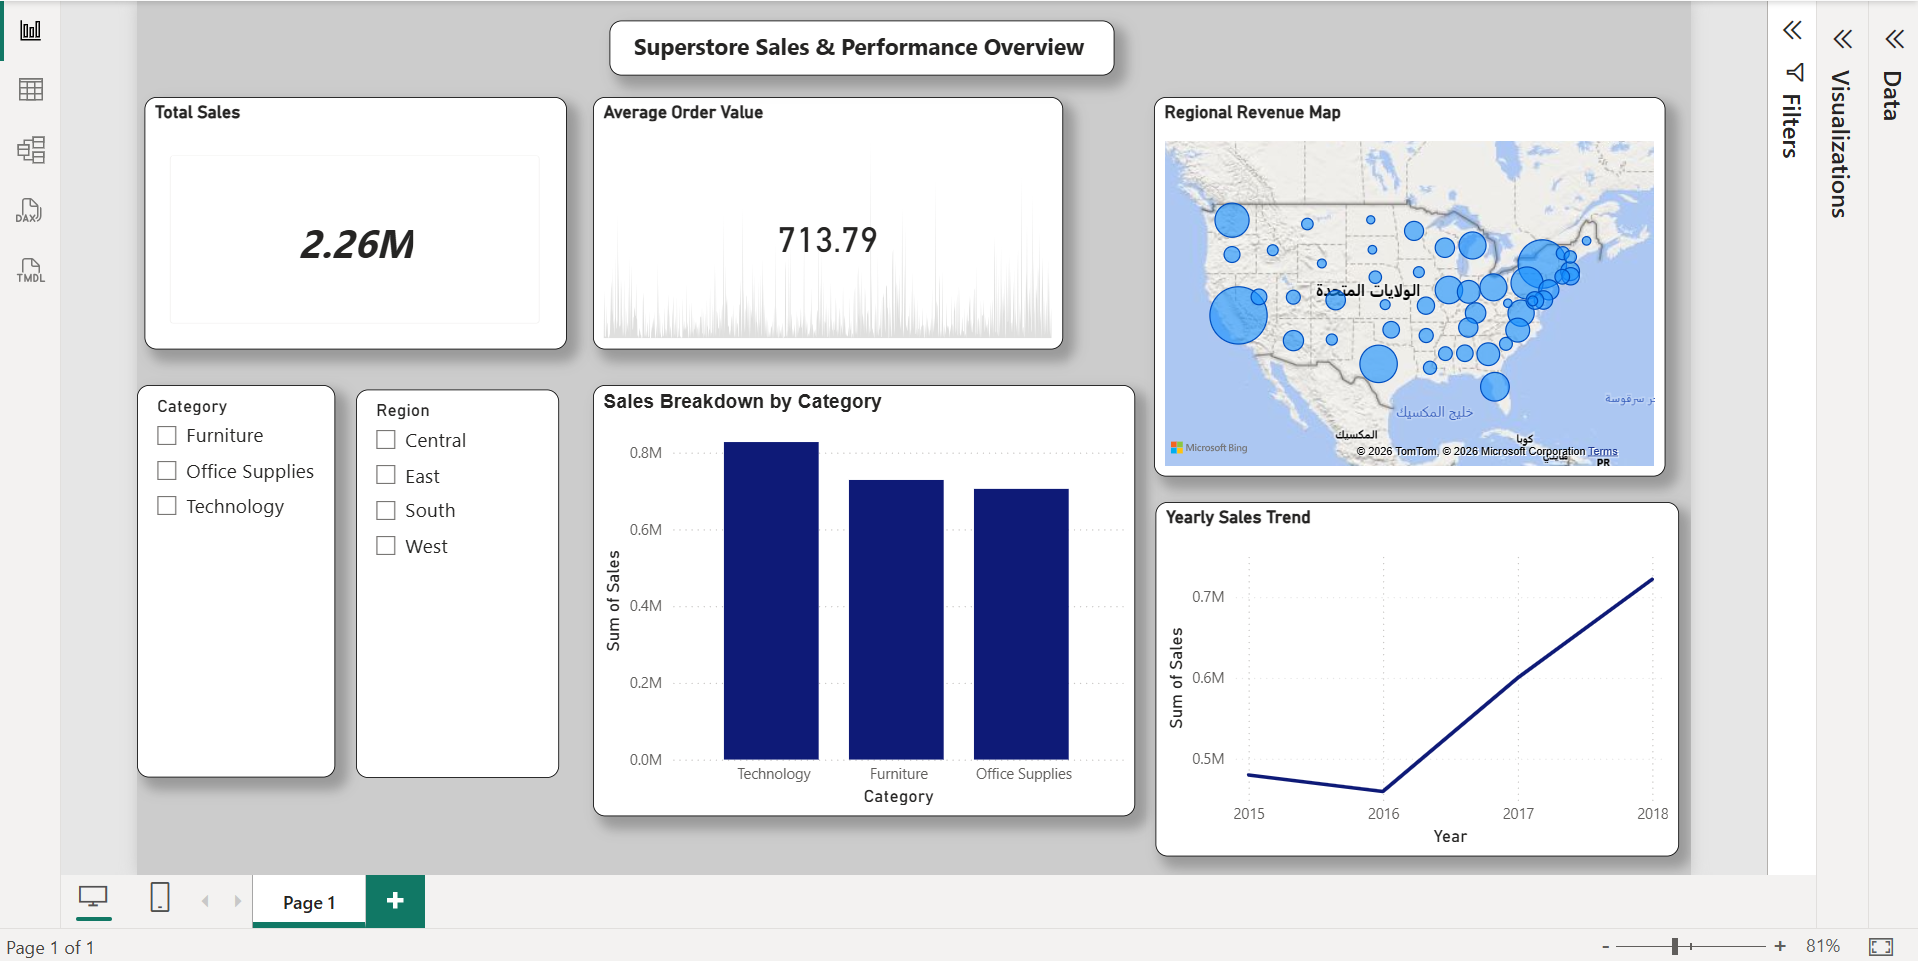

Layout of this report page (visuals, bound fields, positions):
{"tool":"powerbi","page":{"name":"Page 1","canvas":[1280,720],"ordinal":0},"visuals":[{"type":"cardVisual","fields":{"Data":["Sum(train.Sales)"]},"box":[0,79,348,208.2],"z":0},{"type":"clusteredColumnChart","fields":{"Category":["train.Category"],"Y":["Sum(train.Sales)"]},"box":[375.9,315.7,446.8,355.6],"z":3000},{"type":"map","fields":{"Category":["train.State"],"Size":["Sum(train.Sales)"]},"box":[838.2,78.9,421.3,312.9],"z":4000},{"type":"slicer","fields":{"Values":["train.Category"]},"box":[0,316.1,163.6,323.5],"z":5000},{"type":"slicer","fields":{"Values":["train.Region"]},"box":[180.8,320.6,167.3,319.8],"z":6000},{"type":"lineChart","fields":{"Category":["train.Order Date.Variation.Date Hierarchy.Year","train.Order Date.Variation.Date Hierarchy.Quarter","train.Order Date.Variation.Date Hierarchy.Month","train.Order Date.Variation.Date Hierarchy.Day"],"Y":["Sum(train.Sales)"]},"box":[838.8,413.3,431.6,291.8],"z":7000},{"type":"kpi","fields":{"Indicator":["Sum(train.Sales)"],"TrendLine":["train.Order Date"]},"box":[375.9,78.9,387.2,208],"z":8000},{"type":"textbox","box":[388.4,15.1,382.9,52.1],"z":8001}]}

Visuals, with their boxes on the page's 1280x720 design canvas (x1, y1, x2, y2). These are canvas units, not pixel positions in the 1918x961 screenshot, which may show the page scaled, cropped or inside an application window:
cardVisual - Sum(train.Sales): BBox(0, 79, 348, 287)
clusteredColumnChart - train.Category x Sum(train.Sales): BBox(376, 316, 823, 671)
map - train.State x Sum(train.Sales): BBox(838, 79, 1260, 392)
slicer - train.Category: BBox(0, 316, 164, 640)
slicer - train.Region: BBox(181, 321, 348, 640)
lineChart - train.Order Date.Variation.Date Hierarchy.Year x train.Order Date.Variation.Date Hierarchy.Quarter: BBox(839, 413, 1270, 705)
kpi - Sum(train.Sales) x train.Order Date: BBox(376, 79, 763, 287)
textbox: BBox(388, 15, 771, 67)
